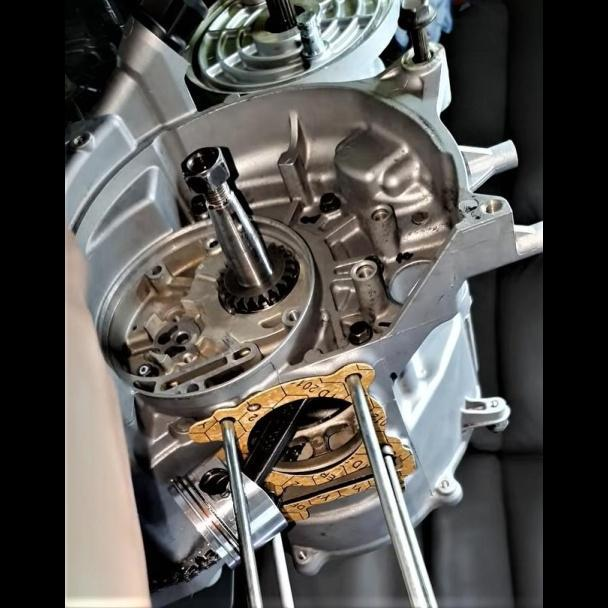hole: (349, 257, 376, 282), (365, 203, 394, 222), (480, 196, 505, 217), (281, 305, 303, 325)
